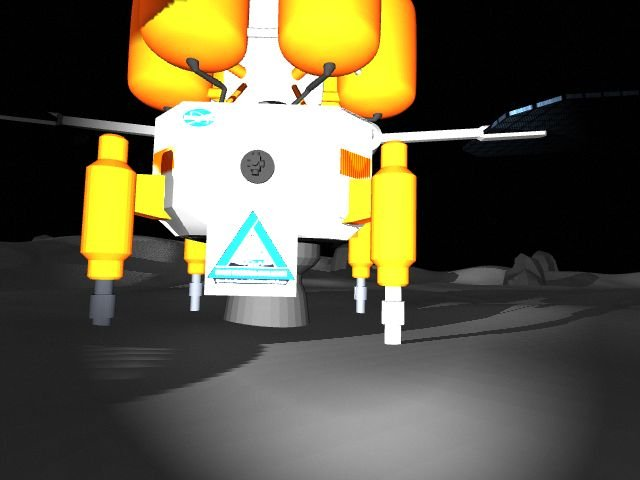basemarker: (207, 210, 294, 288)
